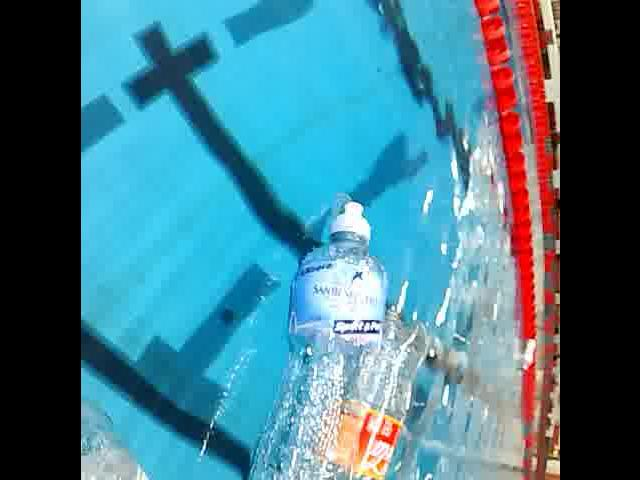Bottle: (237, 188, 393, 480), (286, 296, 436, 480), (80, 391, 227, 480), (512, 334, 538, 376)
